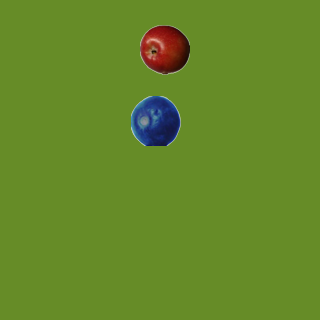Apple Braeburn: (139, 24, 189, 74)
Huckleberry: (130, 95, 180, 145)
